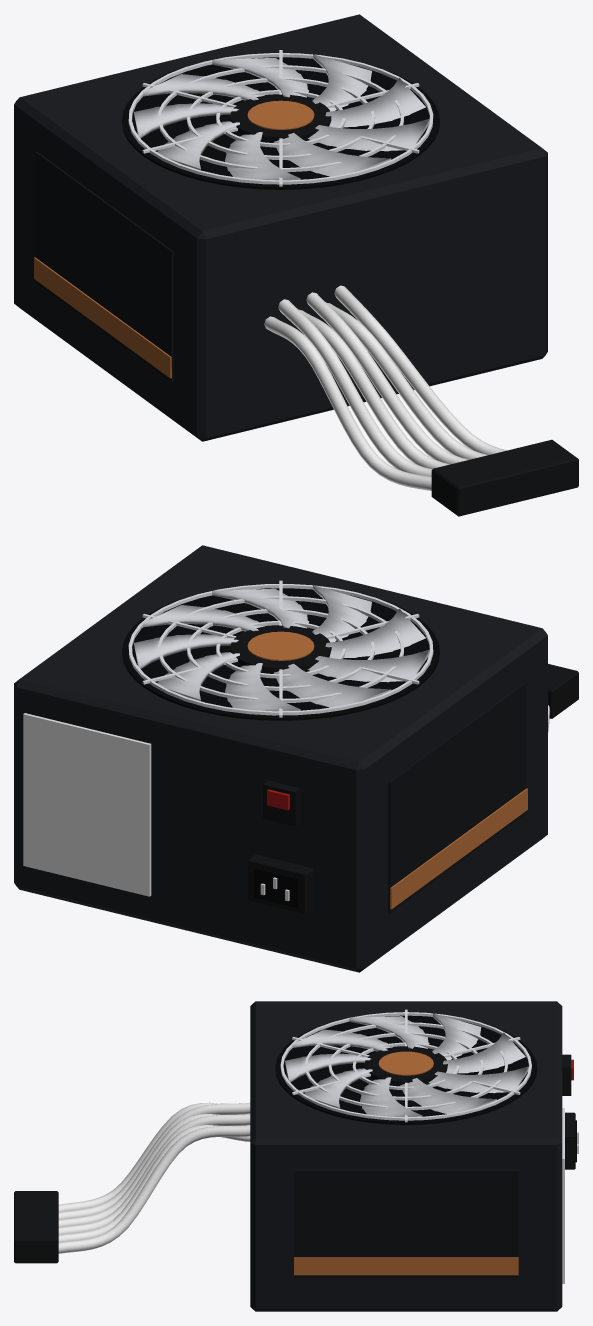
The model's file is hw_psu_450w_bronze.glb.
3 views of the same model, one above another, from view 1: azimuth 30°, elevation 25°; view 2: azimuth 150°, elevation 25°; view 3: azimuth 270°, elevation 25° (orthographic). The views are drawn at different scales.
Visible parts, largest first — view 1: Body, Rotor_Y_0; view 2: Body, Rotor_Y_0; view 3: Body, Rotor_Y_0.
Part boxes in pixels (x1,y1,x2,y2): Body: (14,14,578,516); Rotor_Y_0: (134,54,429,180); Body: (14,545,578,972); Rotor_Y_0: (134,585,429,711); Body: (14,1001,578,1311); Rotor_Y_0: (285,1013,529,1116).
Bounding box in the file's own units: 0.1528 × 0.0894 × 0.2535.
